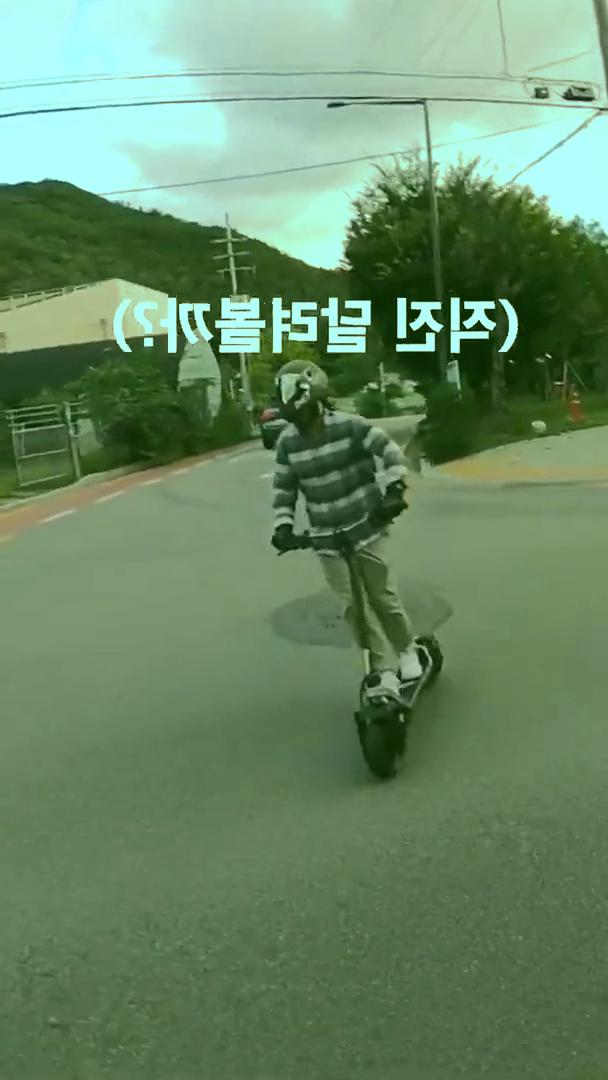helmet: (264, 356, 447, 783)
